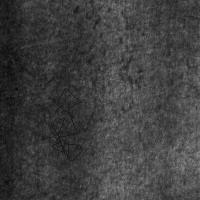crazing: (92, 5, 135, 116), (51, 88, 82, 161)
